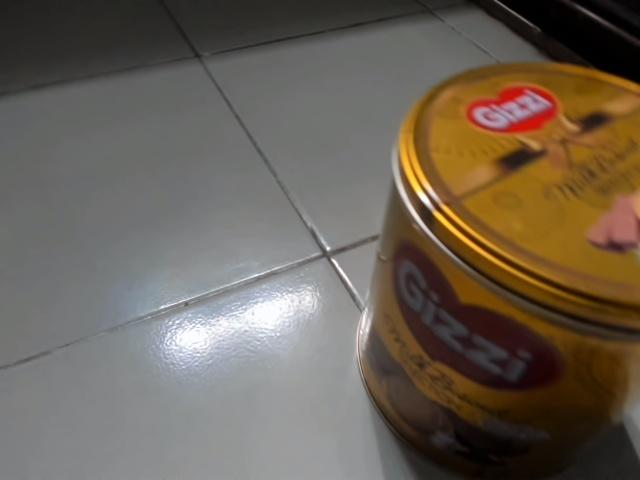anorganik: (350, 54, 640, 480)
